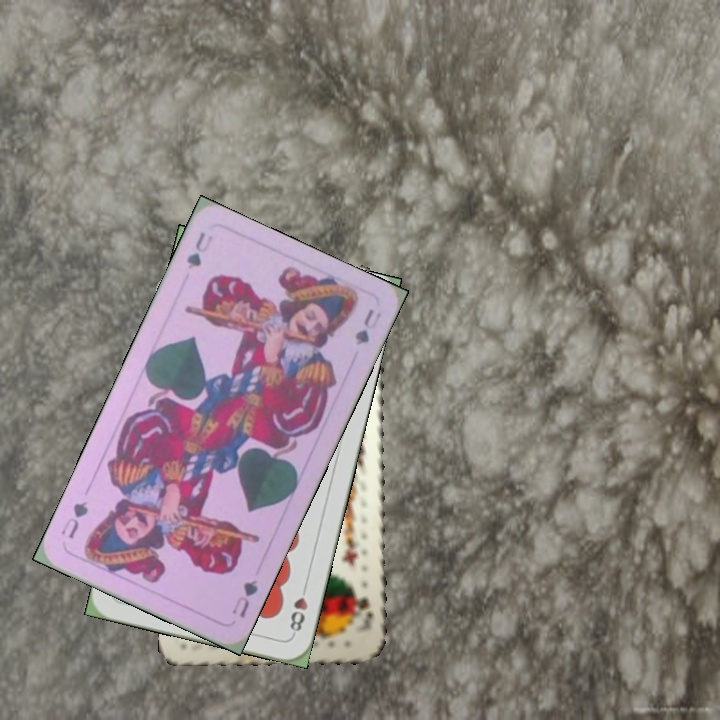GU: (228, 573, 261, 621), (182, 227, 216, 272)
H8: (285, 580, 310, 638)
SK: (351, 583, 376, 629)
